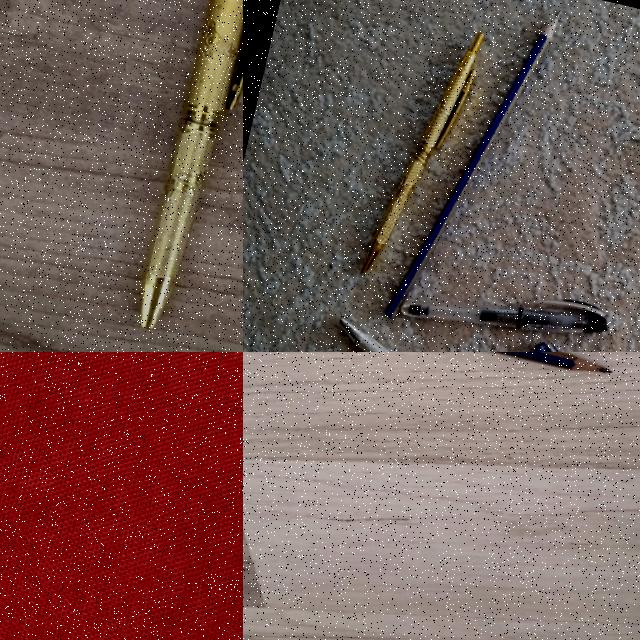pen: (402, 263, 606, 352)
pencil: (387, 12, 558, 316), (495, 352, 609, 373)
signature pen: (140, 0, 242, 327), (367, 27, 484, 284), (319, 319, 519, 352)
